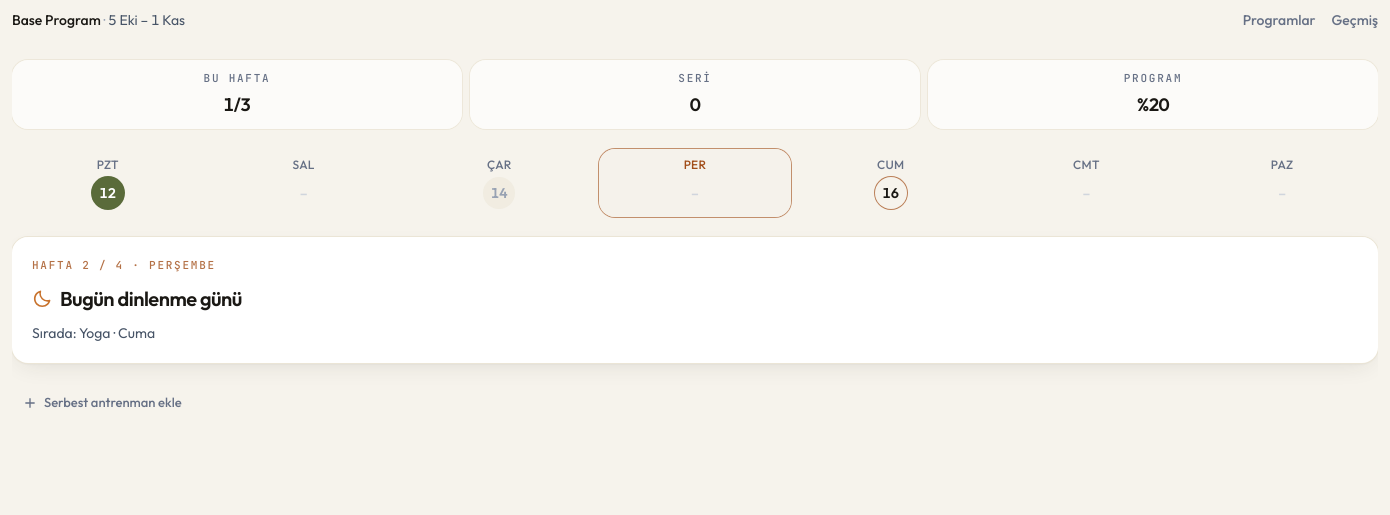
SportHome › shows the selected day's session when a day of the strip is picked
Click the tab with aria-label "Çarşamba, kaçırıldı" at coordinates (499, 182), box [403,148,595,216]
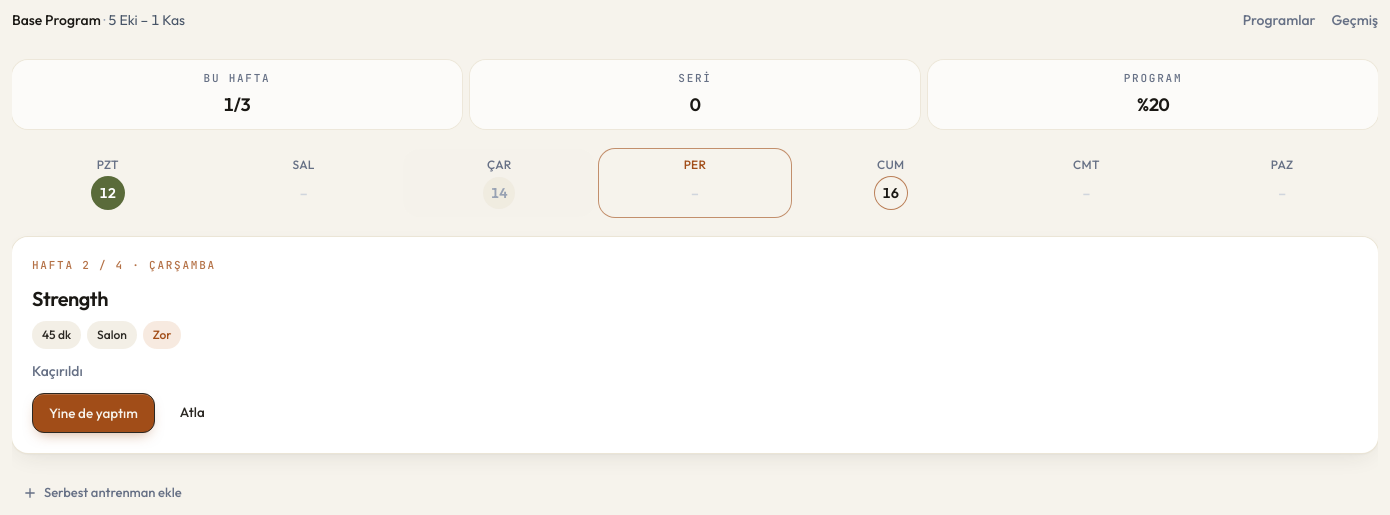
Check: the heading "Strength" is shown, box [32,286,108,311]
Check: the text "Kaçırıldı" is shown, box [32,362,83,380]
Check: the heading "Bugün dinlenme günü" is gone
